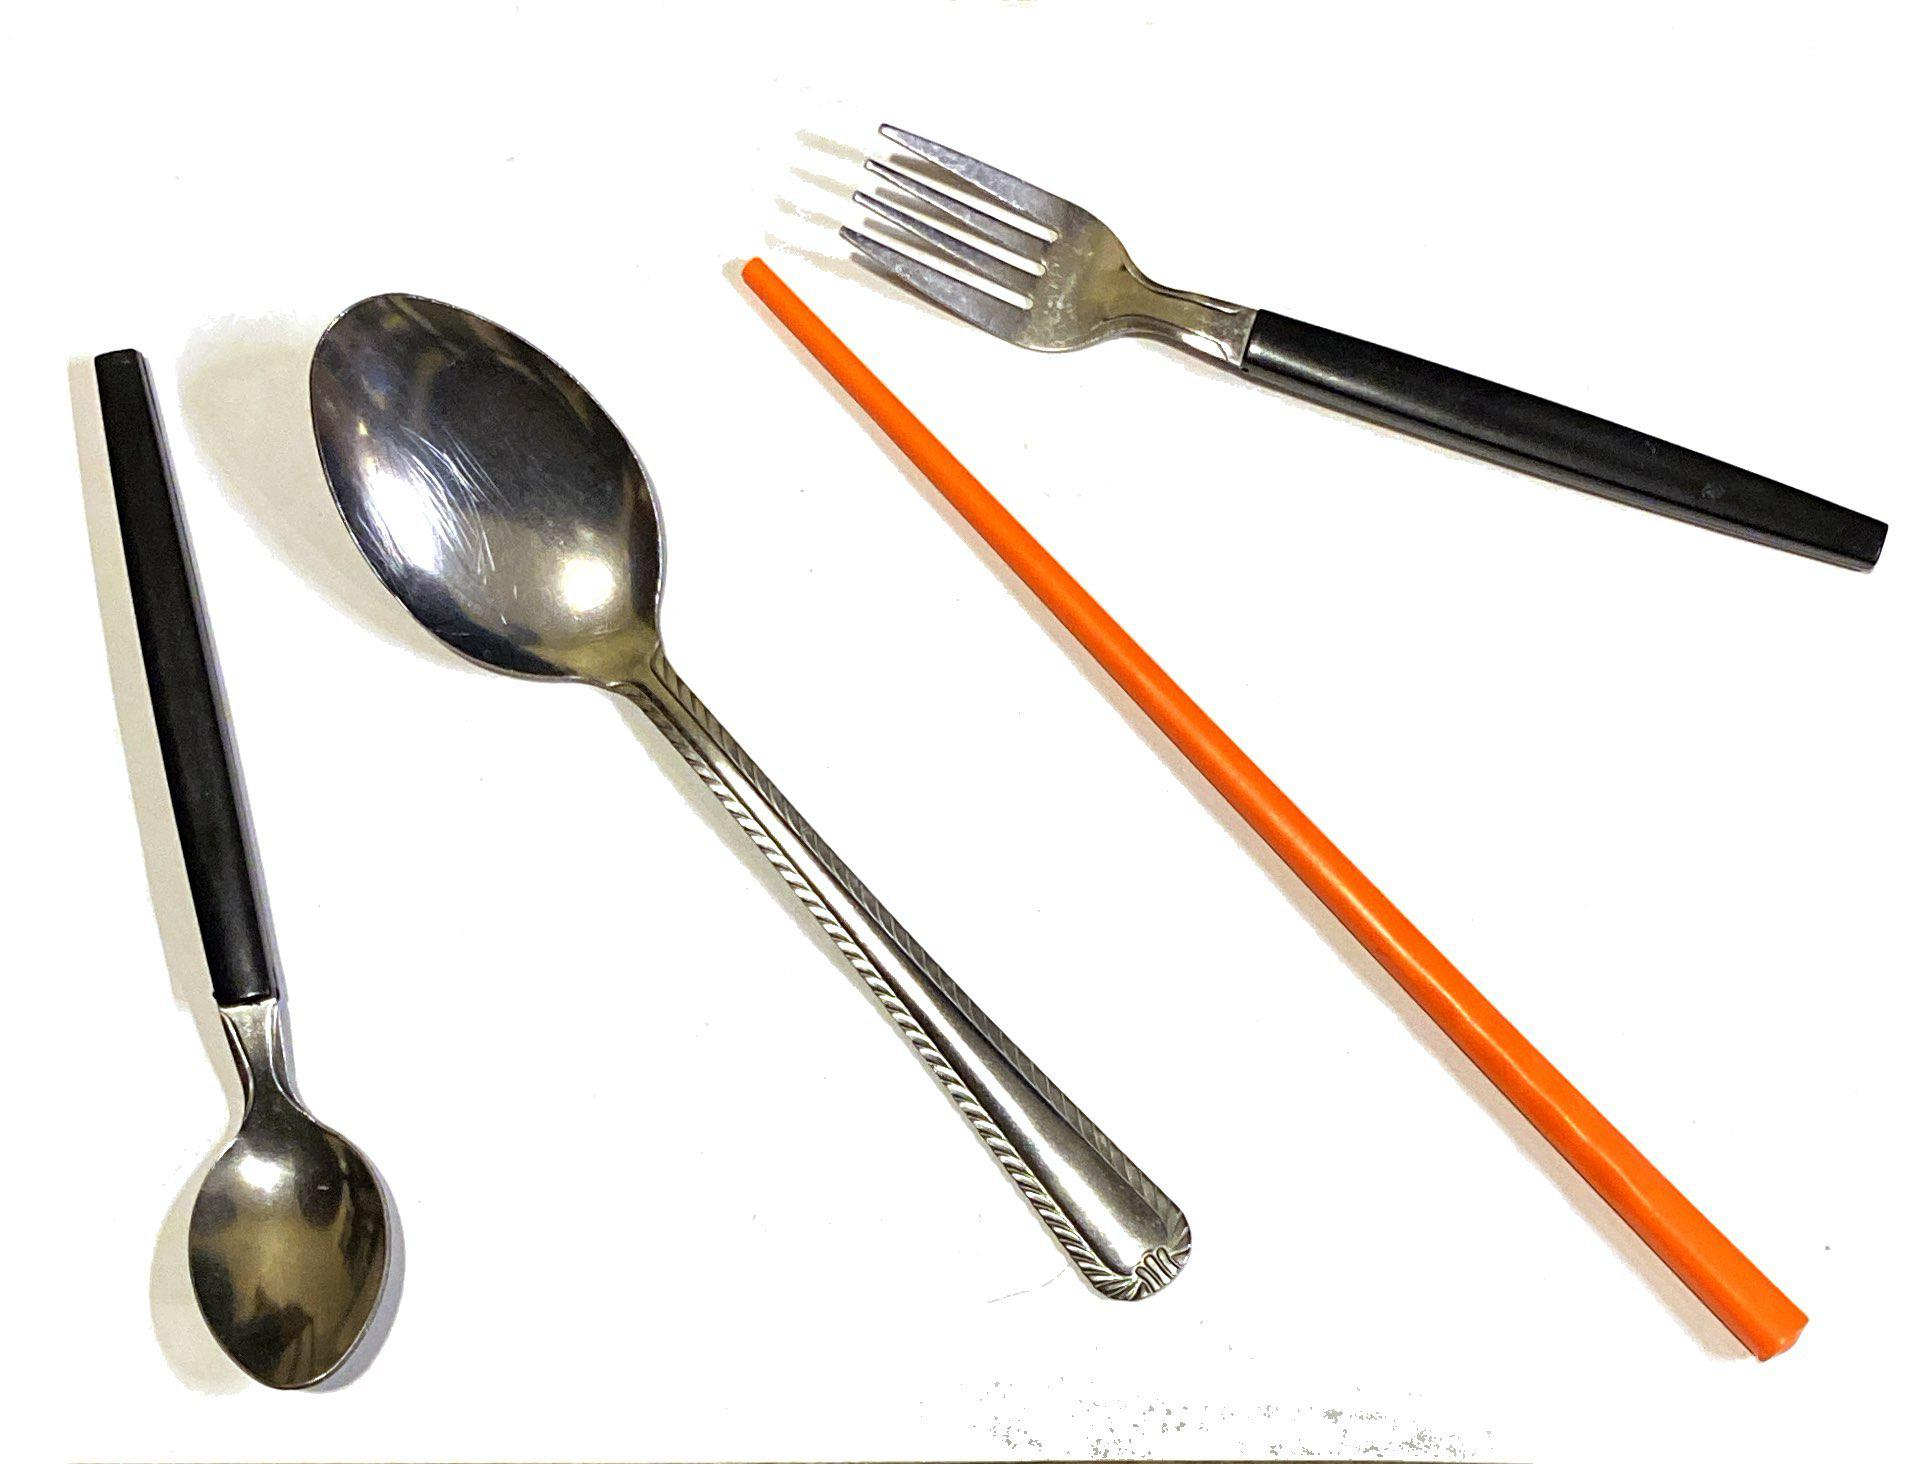Chopstick: (709, 243, 1863, 1367)
Fork: (832, 88, 1906, 620)
Spoon: (267, 243, 1217, 1304), (25, 315, 412, 1395)
